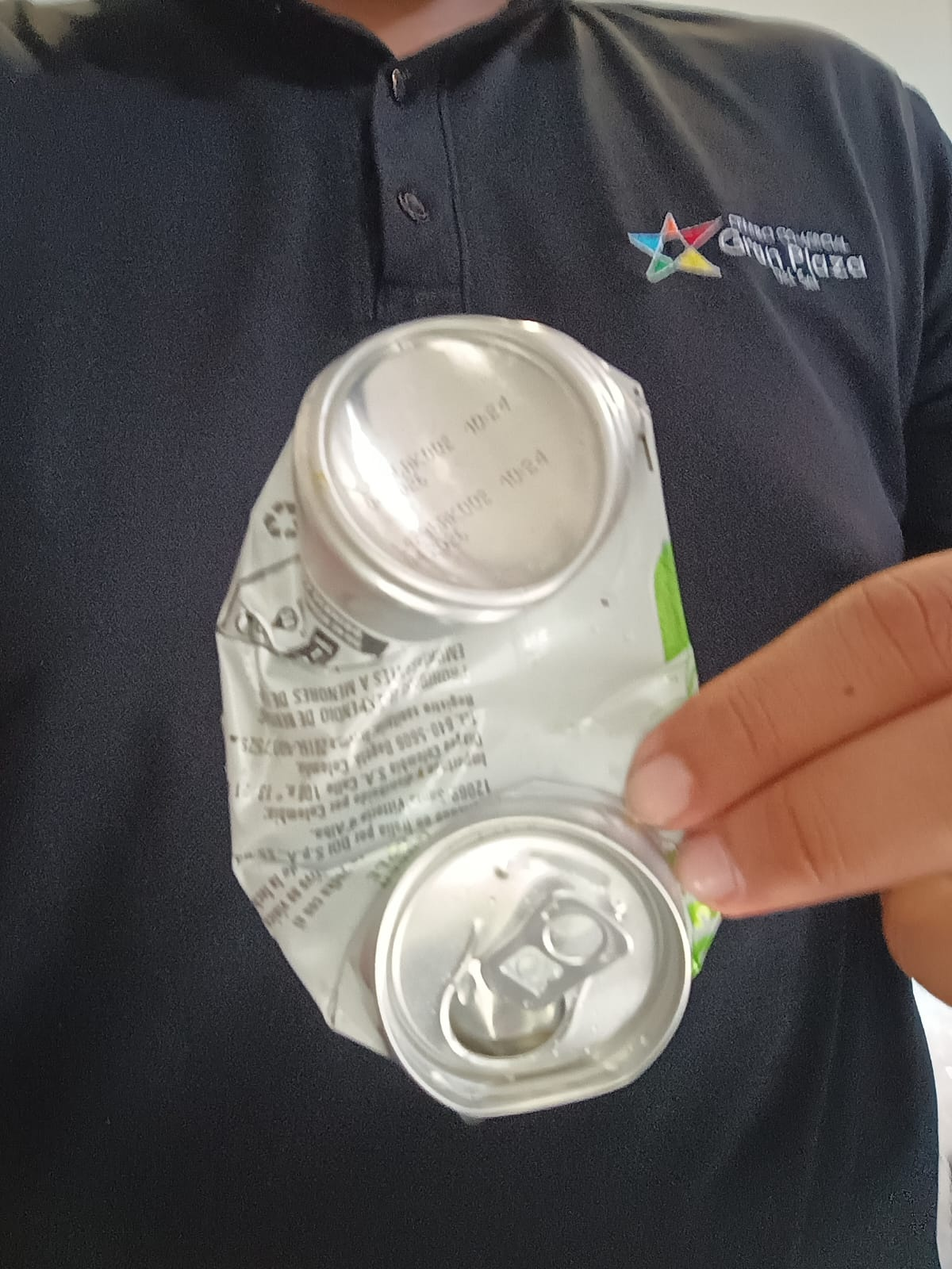Metal: (220, 313, 728, 1119)
